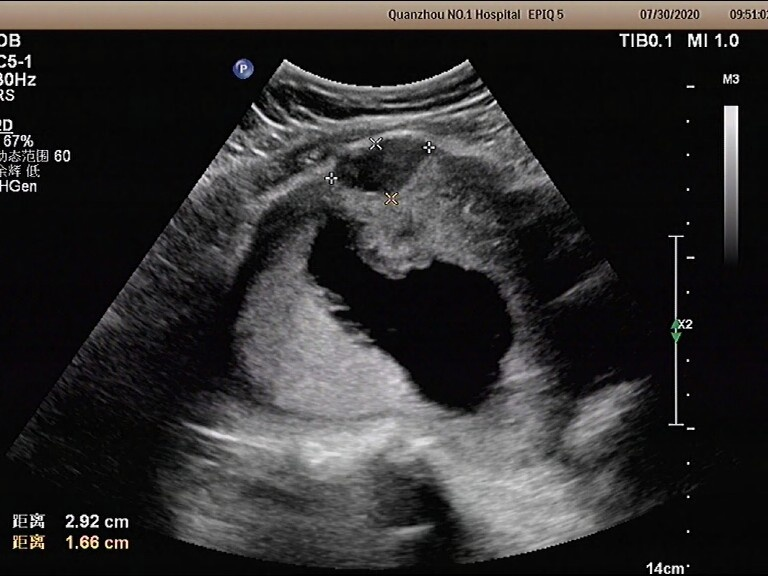肌瘤: (337, 142, 423, 193)
